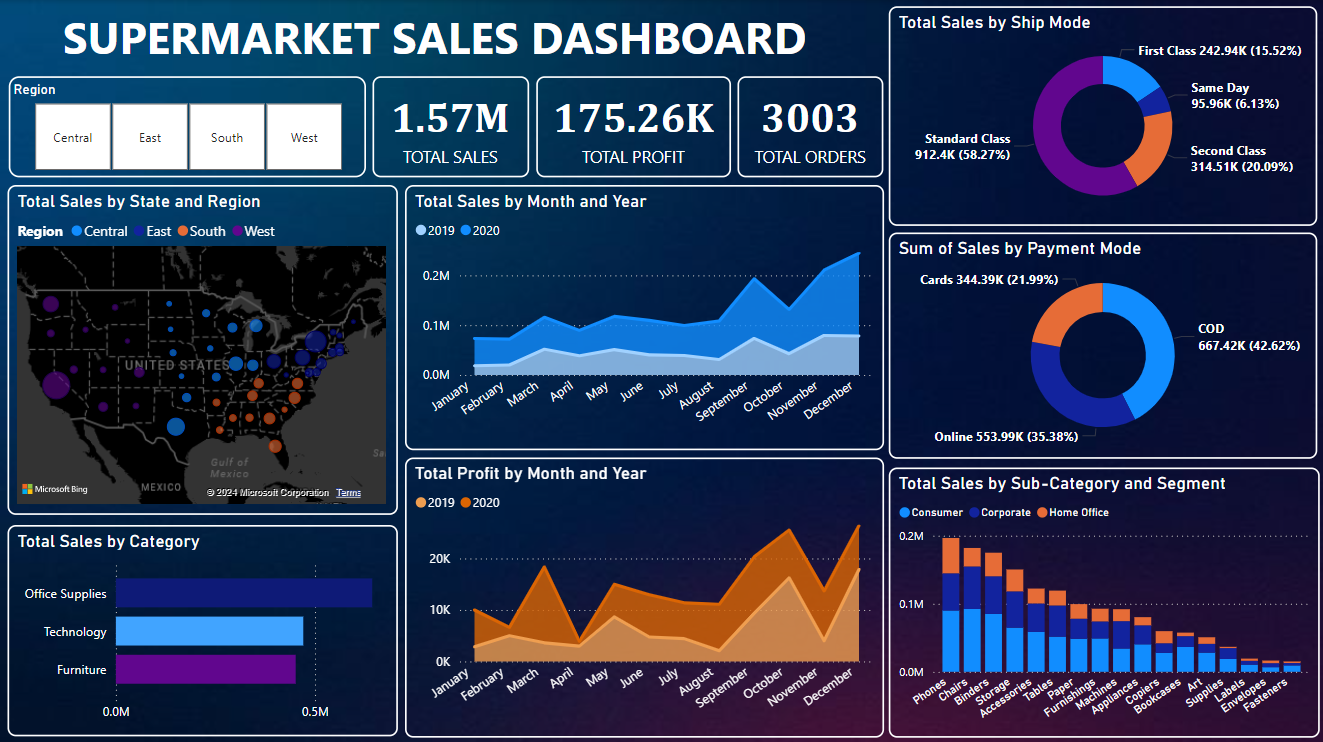

This screenshot's page, from the dashboard's own definition file:
{"tool":"powerbi","page":{"name":"Page 1","canvas":[1280,720],"ordinal":0},"visuals":[{"type":"card","fields":{"Values":["Sum(Sheet1.Profit)"]},"box":[517.6,73.6,188.2,97.7],"z":0},{"type":"card","fields":{"Values":["Sum(Sheet1.Sales)"]},"box":[359.5,73.6,150.8,97.7],"z":1000},{"type":"card","fields":{"Values":["Count(Sheet1.Order ID)"]},"box":[711.8,73.6,141.2,97.7],"z":2000},{"type":"textbox","box":[55.5,1.2,754,68.8],"z":3000},{"type":"barChart","title":"Total Sales by Category","fields":{"Y":["Sum(Sheet1.Sales)"],"Category":["Sheet1.Category"]},"box":[7.2,506.7,376.4,203.9],"z":4000},{"type":"slicer","title":"Region","fields":{"Values":["Sheet1.Region"]},"box":[8.4,73.6,345,97.7],"z":5000},{"type":"map","title":"Total Sales by State and Region","fields":{"Category":["Sheet1.State"],"Series":["Sheet1.Region"],"Size":["Sum(Sheet1.Sales)"]},"box":[7.2,178.6,376.4,318.5],"z":6000},{"type":"donutChart","title":"Total Sales by Ship Mode","fields":{"Y":["Sum(Sheet1.Sales)"],"Series":["Sheet1.Ship Mode"]},"box":[857.8,6,413.8,212.3],"z":7000},{"type":"stackedAreaChart","title":"Total Sales by Month and Year","fields":{"Category":["Sheet1.Order Date.Variation.Date Hierarchy.Month"],"Y":["Sum(Sheet1.Sales)"],"Series":["Sheet1.Order Date.Variation.Date Hierarchy.Year"]},"box":[390.9,178.6,462.1,255.8],"z":8000},{"type":"donutChart","fields":{"Category":["Sheet1.Payment Mode"],"Y":["Sum(Sheet1.Sales)"]},"box":[857.8,224.4,413.8,218.4],"z":9000},{"type":"stackedAreaChart","title":"Total Profit by Month and Year","fields":{"Series":["Sheet1.Order Date.Variation.Date Hierarchy.Year"],"Y":["Sum(Sheet1.Profit)"],"Category":["Sheet1.Order Date.Variation.Date Hierarchy.Month"]},"box":[390.9,441.6,462.1,270.2],"z":10000},{"type":"columnChart","title":"Total Sales by Sub-Category and Segment","fields":{"Category":["Sheet1.Sub-Category"],"Y":["Sum(Sheet1.Sales)"],"Series":["Sheet1.Segment"]},"box":[857.8,451.2,416.2,260.6],"z":11000}]}

Visuals, with their boxes in screenshot pixels (x1, y1, x2, y2), scaled from the page's 1280x720 canvas onto the 1323x742 screenshot:
card - Sum(Sheet1.Profit): (left=535, top=76, right=730, bottom=177)
card - Sum(Sheet1.Sales): (left=372, top=76, right=527, bottom=177)
card - Count(Sheet1.Order ID): (left=736, top=76, right=882, bottom=177)
textbox: (left=57, top=1, right=837, bottom=72)
"Total Sales by Category" barChart: (left=7, top=522, right=396, bottom=732)
"Region" slicer: (left=9, top=76, right=365, bottom=177)
"Total Sales by State and Region" map: (left=7, top=184, right=396, bottom=512)
"Total Sales by Ship Mode" donutChart: (left=887, top=6, right=1314, bottom=225)
"Total Sales by Month and Year" stackedAreaChart: (left=404, top=184, right=882, bottom=448)
donutChart - Sheet1.Payment Mode x Sum(Sheet1.Sales): (left=887, top=231, right=1314, bottom=456)
"Total Profit by Month and Year" stackedAreaChart: (left=404, top=455, right=882, bottom=734)
"Total Sales by Sub-Category and Segment" columnChart: (left=887, top=465, right=1317, bottom=734)
